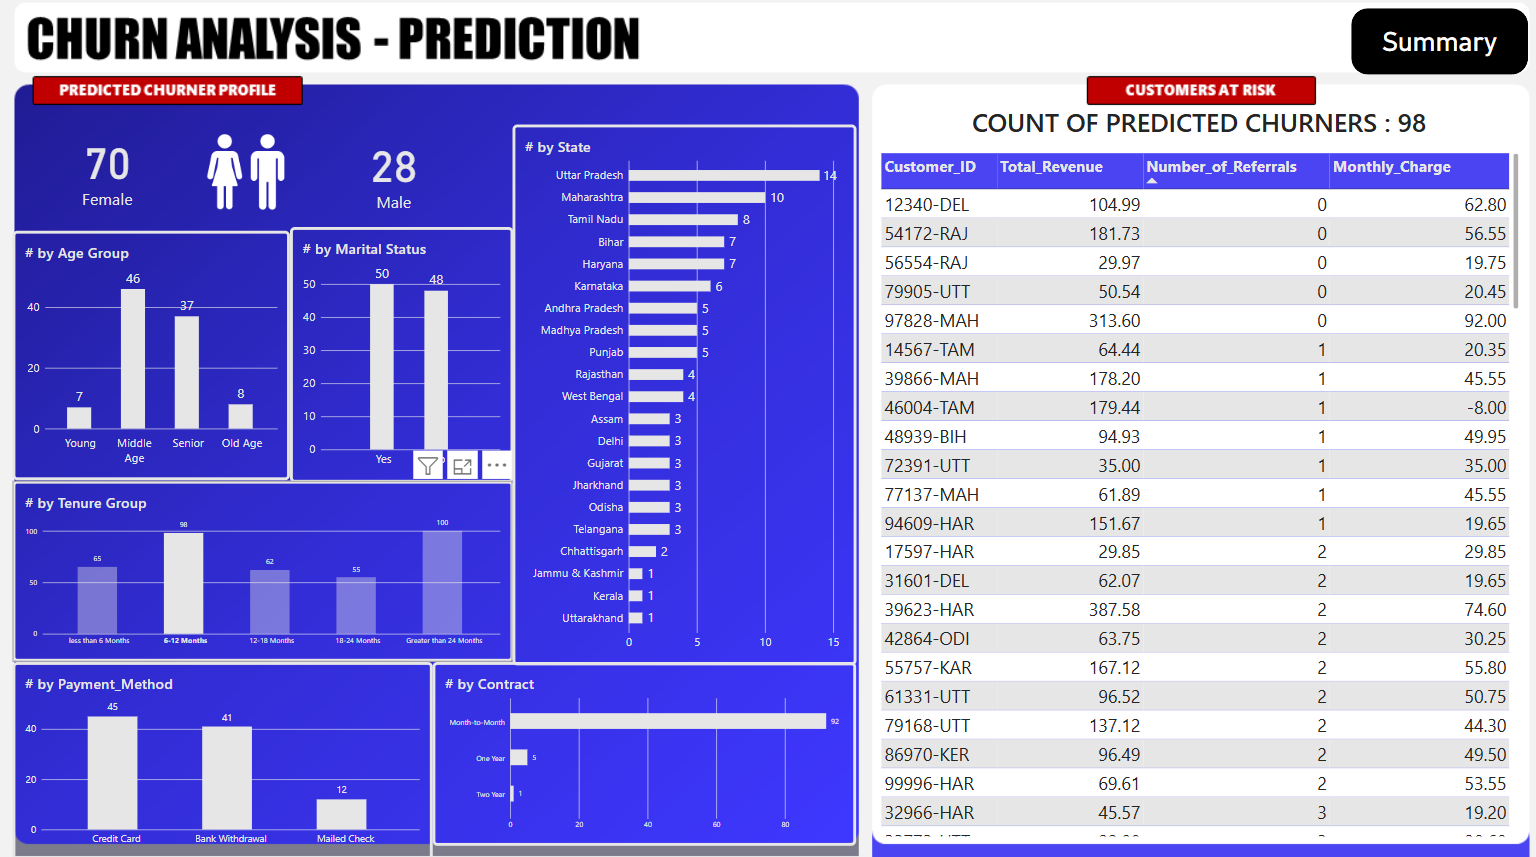

What the dashboard file says about the page in this screenshot:
{"tool":"powerbi","page":{"name":"Churn Prediction","canvas":[2560,1440],"ordinal":2},"visuals":[{"type":"tableEx","fields":{"Values":["Predictions.Customer_ID","Predictions.Total_Revenue","Predictions.Number_of_Referrals","Predictions.Monthly_Charge"]},"box":[1443.5,253.9,1089.3,1163.1],"z":0},{"type":"card","fields":{"Values":["Tbl_Measures.Title Predicted Churner"]},"box":[1496.7,135.8,983,159.4],"z":1000},{"type":"card","fields":{"Values":["Tbl_Measures.Count Predicted Churner"]},"box":[38.4,197.8,277.5,191.9],"z":2000},{"type":"card","fields":{"Values":["Tbl_Measures.Count Predicted Churner"]},"box":[498.9,200.7,307,191.9],"z":3000},{"type":"clusteredColumnChart","fields":{"Category":["Mapping_groupAge.Age Group"],"Y":["CountNonNull(Predictions.Customer_ID)"]},"box":[20,396,460,413.3],"z":4000},{"type":"clusteredColumnChart","fields":{"Category":["Predictions.Married"],"Y":["CountNonNull(Predictions.Customer_ID)"]},"box":[480,390,370,424],"z":5000},{"type":"clusteredColumnChart","fields":{"Category":["Predictions.Payment_Method"],"Y":["CountNonNull(Predictions.Customer_ID)"]},"box":[20,1110,696.7,330],"z":7000},{"type":"clusteredColumnChart","fields":{"Category":["Mapping_groupTenure.Tenure Group"],"Y":["CountNonNull(Predictions.Customer_ID)"]},"box":[20,810,830,300],"z":7500},{"type":"clusteredBarChart","fields":{"Category":["Predictions.State"],"Y":["CountNonNull(Predictions.Customer_ID)"]},"box":[850,220,570,896.7],"z":8000},{"type":"clusteredBarChart","fields":{"Category":["Predictions.Contract"],"Y":["CountNonNull(Predictions.Customer_ID)"]},"box":[717.1,1110.9,702.6,304.7],"z":9000},{"type":"image","box":[312.9,218.5,188.9,159.4],"z":10000},{"type":"shape","box":[2240,26.7,293.3,110],"z":11000}]}

Visuals, with their boxes in screenshot pixels (x1, y1, x2, y2), scaled from the page's 2560x1440 canvas onto the 1536x857 screenshot:
tableEx - Predictions.Customer_ID x Predictions.Total_Revenue: [866,151,1520,843]
card - Tbl_Measures.Title Predicted Churner: [898,81,1488,176]
card - Tbl_Measures.Count Predicted Churner: [23,118,190,232]
card - Tbl_Measures.Count Predicted Churner: [299,119,484,234]
clusteredColumnChart - Mapping_groupAge.Age Group x CountNonNull(Predictions.Customer_ID): [12,236,288,482]
clusteredColumnChart - Predictions.Married x CountNonNull(Predictions.Customer_ID): [288,232,510,484]
clusteredColumnChart - Predictions.Payment_Method x CountNonNull(Predictions.Customer_ID): [12,661,430,856]
clusteredColumnChart - Mapping_groupTenure.Tenure Group x CountNonNull(Predictions.Customer_ID): [12,482,510,661]
clusteredBarChart - Predictions.State x CountNonNull(Predictions.Customer_ID): [510,131,852,665]
clusteredBarChart - Predictions.Contract x CountNonNull(Predictions.Customer_ID): [430,661,852,842]
image: [188,130,301,225]
shape: [1344,16,1520,81]
